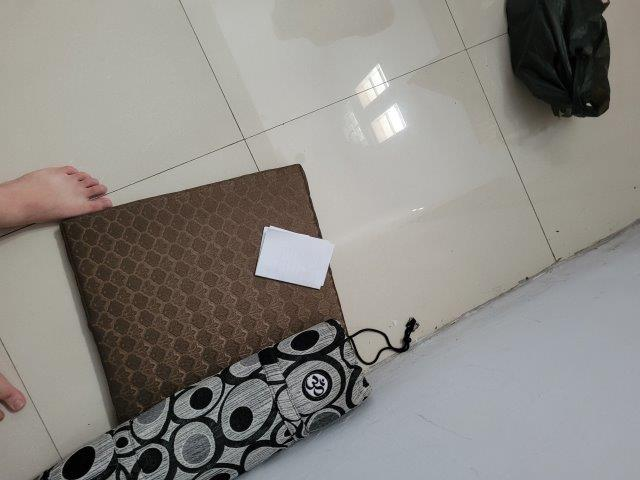kertas: (255, 223, 335, 289)
